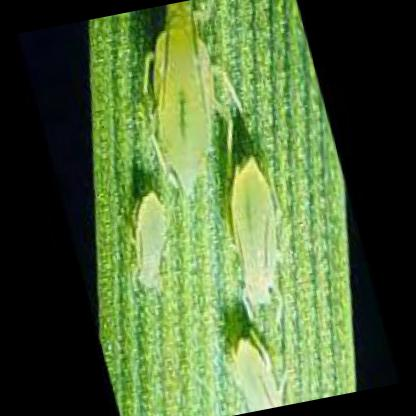schizaphis graminum: (143, 4, 212, 196), (233, 154, 279, 309), (135, 192, 168, 283)
